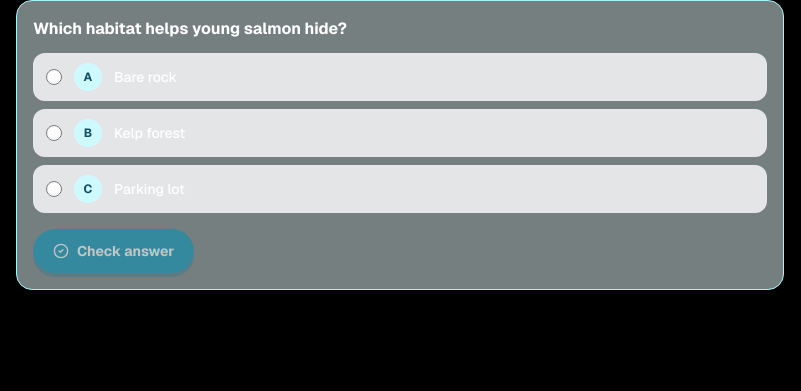
textbook inline quiz attempts › renders textbook quiz blocks as student answer forms and submits the selected option
Step 1. Click the radio button labelled "B Kelp forest" → (54, 133), box [46,125,62,141]
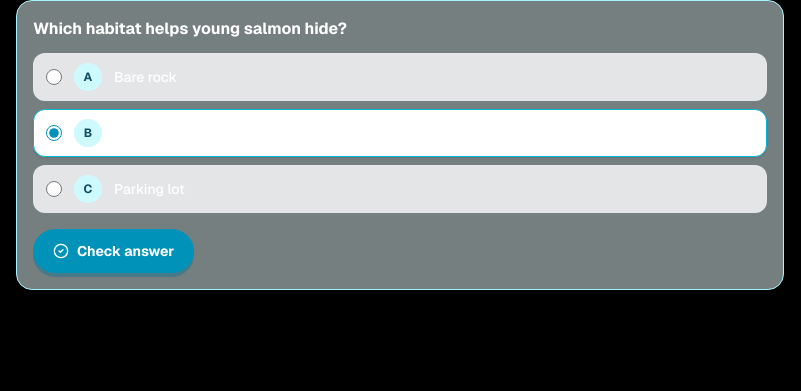
Step 2. Click the button "Check answer" → (114, 251), box [33,229,194,273]
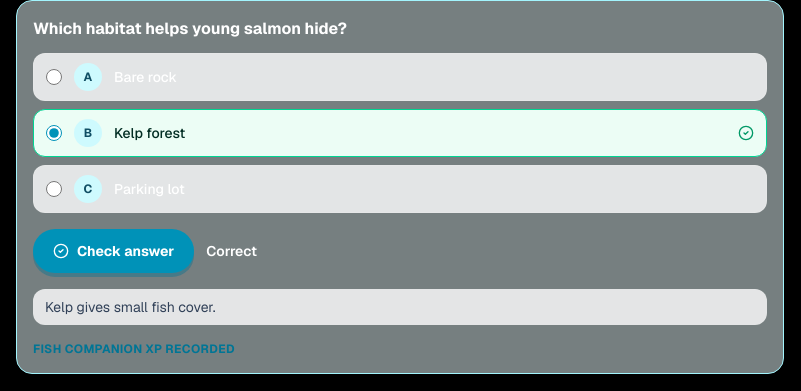
Result: the text "Correct" is shown at [206,241,257,261]
Result: the text "Kelp gives small fish cover." is shown at [33,289,767,325]
Result: the text "Fish companion XP recorded" is shown at [33,341,235,357]
